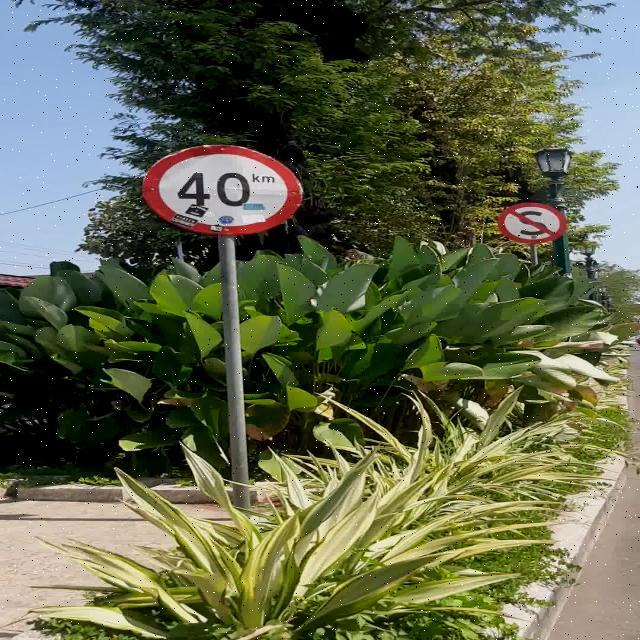Kecepatan Maks. 40 km: (140, 143, 304, 236)
